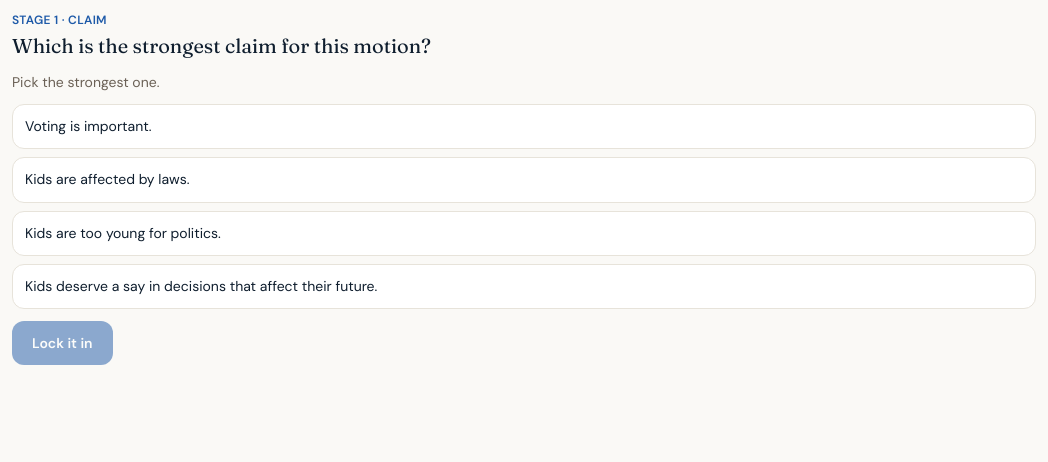
ChoiceStage › explains a wrong pick, offers a retry, and never advances
Click the radio button labelled "Voting is important.". click: click(88, 126)
box: [12,104,1036,149]
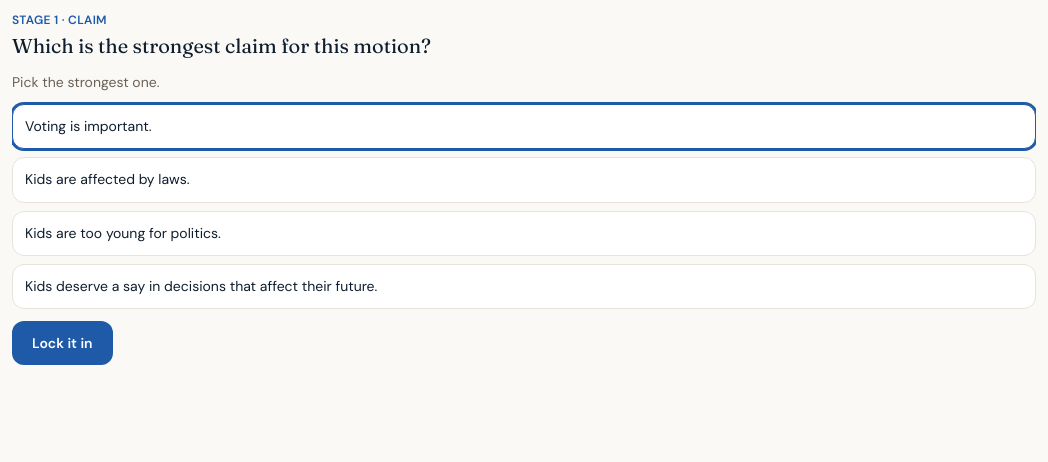
Click the button "Lock it in". click: click(62, 343)
box: [12,321,113,365]
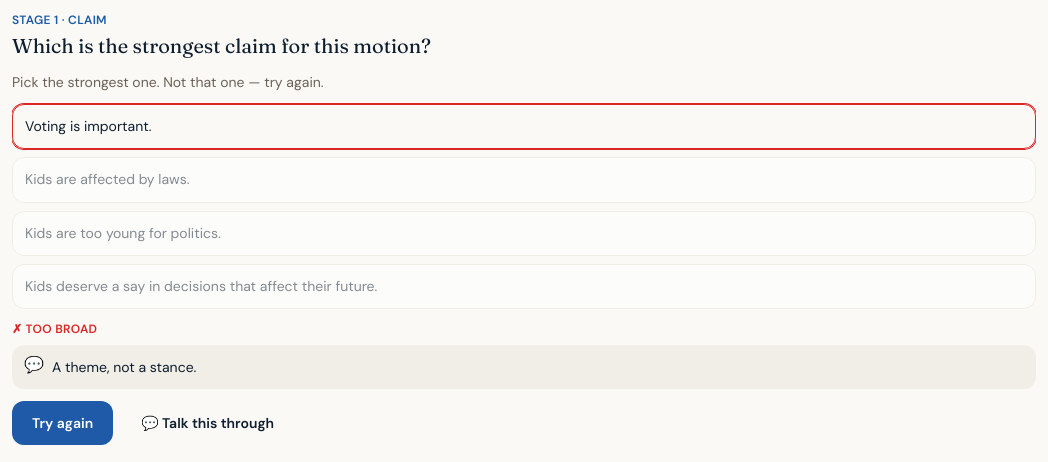
Result: the text "✗ Too broad" is shown at [12,321,97,337]
Result: the text "A theme, not a stance." is shown at [52,358,196,376]
Click the button "Try again". click: click(63, 423)
box: [12,401,113,445]
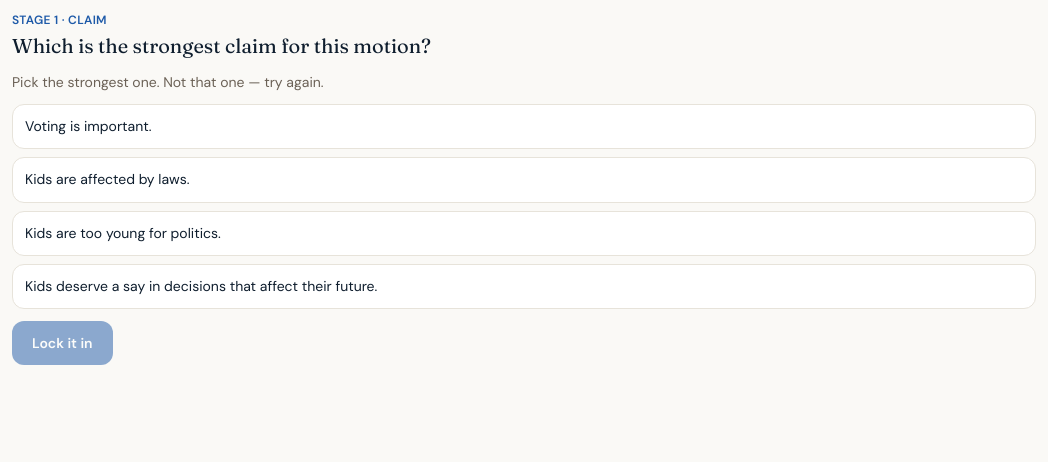
Result: the text "A theme, not a stance" is gone
Result: the button "Lock it in" is disabled at [12,321,113,365]
